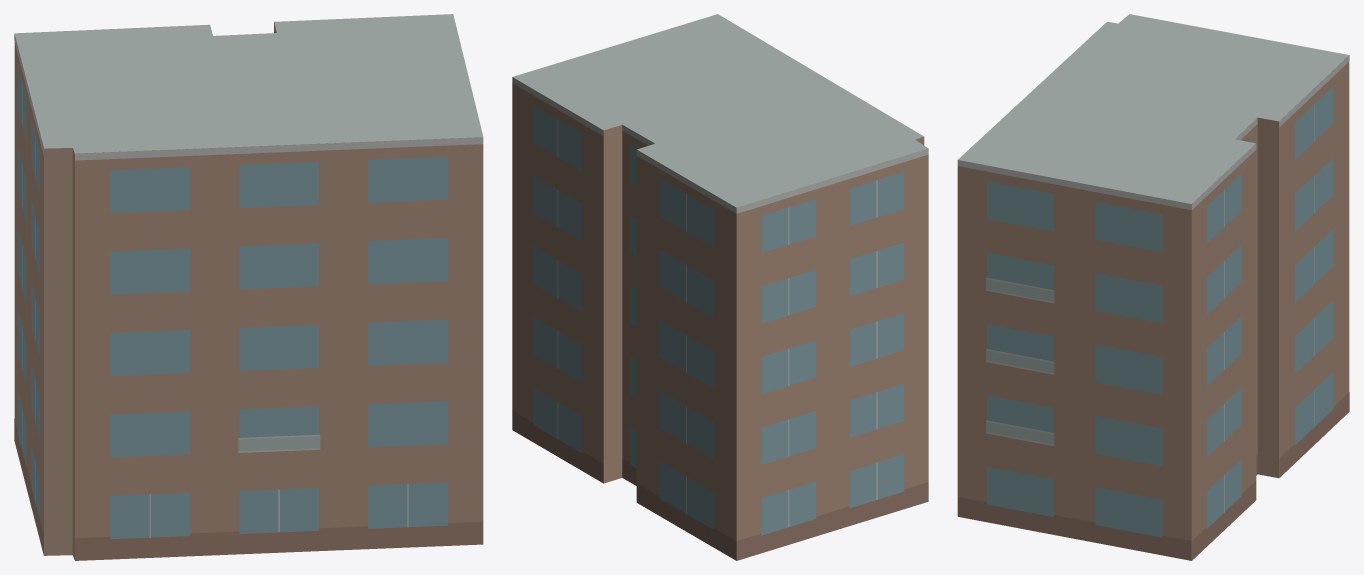
File: survey-upis-32659164.glb
3 renders of one model, left to right at view 1: azimuth 30°, elevation 25°; view 2: azimuth 150°, elevation 25°; view 3: azimuth 270°, elevation 25°, orthographic. The views are drawn at different scales.
Parts seen in each view (by area): view 1: survey-upis-32659164.tmp; view 2: survey-upis-32659164.tmp; view 3: survey-upis-32659164.tmp.
Boxes of the visible parts, x1=… form: survey-upis-32659164.tmp: x1=14, y1=14, x2=483, y2=560; survey-upis-32659164.tmp: x1=512, y1=14, x2=928, y2=560; survey-upis-32659164.tmp: x1=957, y1=14, x2=1349, y2=560.
Bounding box in the file's own units: 16.24 × 14.2 × 14.14.
